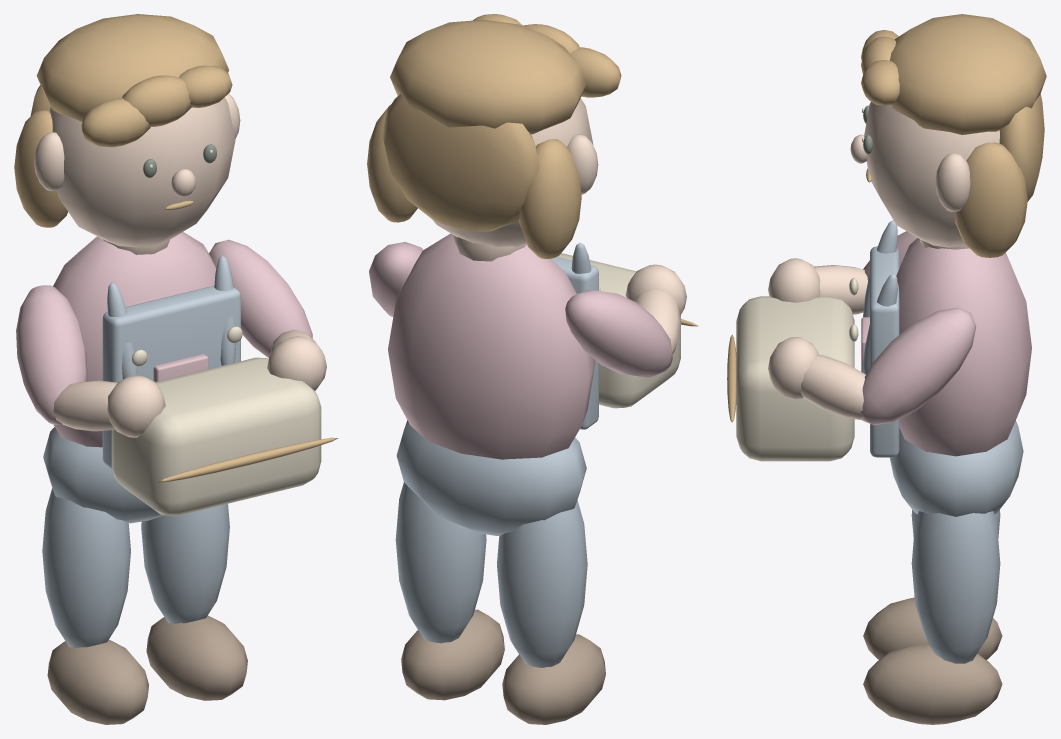
Rendered from pearl-carry.glb.
3 renders of one model, left to right at view 1: azimuth 30°, elevation 25°; view 2: azimuth 150°, elevation 25°; view 3: azimuth 270°, elevation 25°, orthographic. The views are drawn at different scales.
Parts seen in each view (by area): view 1: Supply parcel.006, Head.019, Hair crown.019, Trouser leg.038, Padded shirt.019, Overall bib.010, Trouser leg.039, Shirt sleeve.038, Rounded boot.039, Rounded boot.038, Shirt sleeve.039, Soft trouser seat.019 (+13 smaller); view 2: Padded shirt.019, Hair crown.019, Hair back.019, Soft trouser seat.019, Trouser leg.038, Trouser leg.039, Shirt sleeve.038, Rounded boot.038, Rounded boot.039, Rounded bob.008, Supply parcel.006, Head.019 (+9 smaller); view 3: Padded shirt.019, Hair crown.019, Supply parcel.006, Trouser leg.039, Head.019, Shirt sleeve.039, Rounded boot.039, Soft trouser seat.019, Rounded bob.009, Overall bib.010, Forearm.039, Rounded boot.038 (+10 smaller).
Part boxes in pixels (bbox=[...]): Supply parcel.006: bbox=[111, 357, 321, 515]; Head.019: bbox=[49, 97, 235, 247]; Hair crown.019: bbox=[36, 14, 228, 121]; Trouser leg.038: bbox=[42, 488, 130, 647]; Padded shirt.019: bbox=[53, 232, 216, 447]; Overall bib.010: bbox=[102, 285, 240, 468]; Trouser leg.039: bbox=[141, 504, 229, 623]; Shirt sleeve.038: bbox=[16, 285, 87, 424]; Rounded boot.039: bbox=[146, 615, 247, 700]; Rounded boot.038: bbox=[47, 639, 148, 724]; Shirt sleeve.039: bbox=[209, 239, 312, 357]; Soft trouser seat.019: bbox=[43, 427, 163, 523]; Padded shirt.019: bbox=[388, 233, 595, 459]; Hair crown.019: bbox=[390, 19, 586, 134]; Hair back.019: bbox=[382, 94, 539, 231]; Soft trouser seat.019: bbox=[396, 420, 586, 535]; Trouser leg.038: bbox=[497, 500, 587, 667]; Trouser leg.039: bbox=[395, 482, 486, 643]; Shirt sleeve.038: bbox=[565, 289, 672, 377]; Rounded boot.038: bbox=[502, 634, 605, 724]; Rounded boot.039: bbox=[401, 609, 504, 700]; Rounded bob.008: bbox=[519, 139, 581, 258]; Supply parcel.006: bbox=[557, 253, 680, 408]; Head.019: bbox=[432, 98, 593, 246]; Padded shirt.019: bbox=[896, 238, 1031, 456]; Hair crown.019: bbox=[889, 14, 1046, 134]; Supply parcel.006: bbox=[736, 296, 854, 461]; Trouser leg.039: bbox=[911, 511, 1000, 663]; Head.019: bbox=[864, 102, 999, 247]; Shirt sleeve.039: bbox=[860, 307, 976, 425]; Rounded boot.039: bbox=[863, 643, 1002, 724]; Soft trouser seat.019: bbox=[890, 420, 1023, 516]; Rounded bob.009: bbox=[955, 142, 1027, 257]; Overall bib.010: bbox=[870, 246, 899, 457]; Forearm.039: bbox=[800, 355, 865, 419]; Rounded boot.038: bbox=[863, 597, 1002, 659].
Size of the model in its own units: 0.5406 by 1.25 by 0.545.
